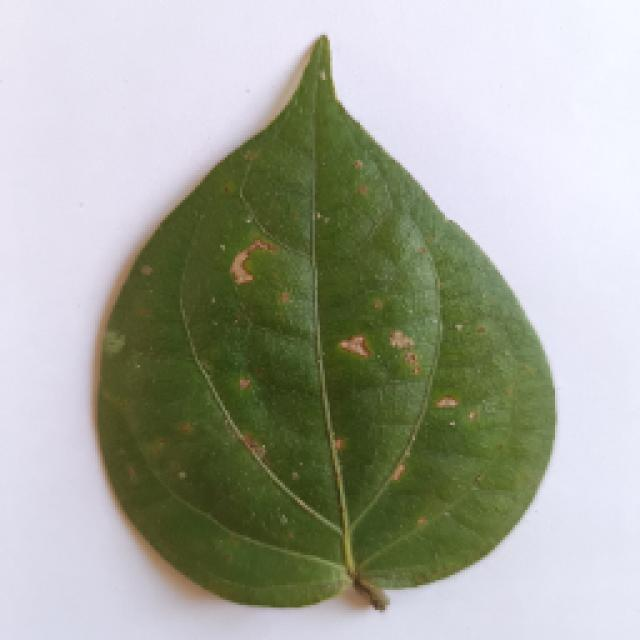pollu-disease: (55, 42, 575, 612)
